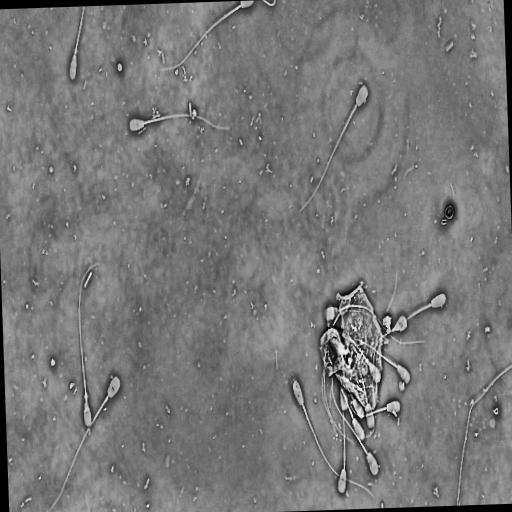dirt-particles: (317, 276, 386, 420), (437, 195, 458, 231), (115, 59, 123, 75)
loose-tail: (454, 360, 512, 502)
normal: (46, 374, 122, 512), (291, 378, 375, 498), (296, 80, 369, 215), (369, 291, 446, 407), (336, 295, 375, 430), (330, 374, 379, 477), (322, 302, 356, 446), (77, 261, 100, 429), (341, 333, 411, 385), (127, 113, 233, 133), (67, 7, 86, 81), (336, 384, 347, 496)
proximal-droplet: (84, 390, 87, 401)
